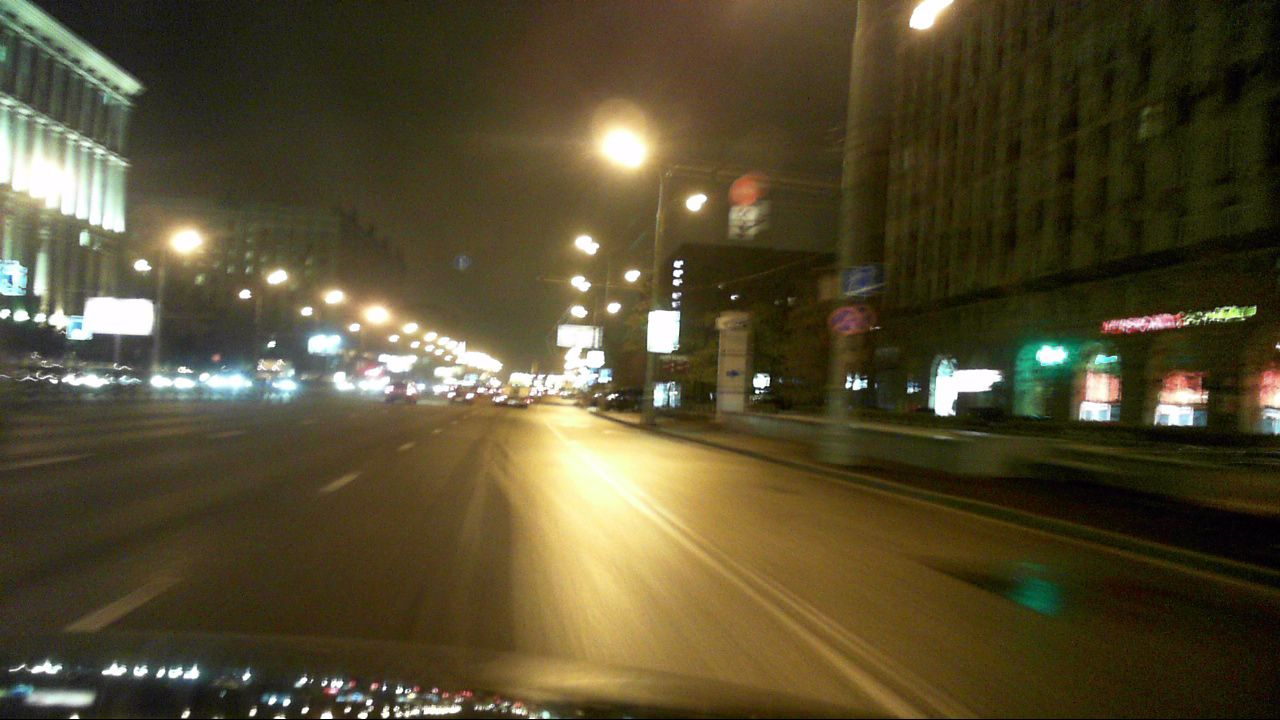No Parking: (829, 305, 860, 334)
